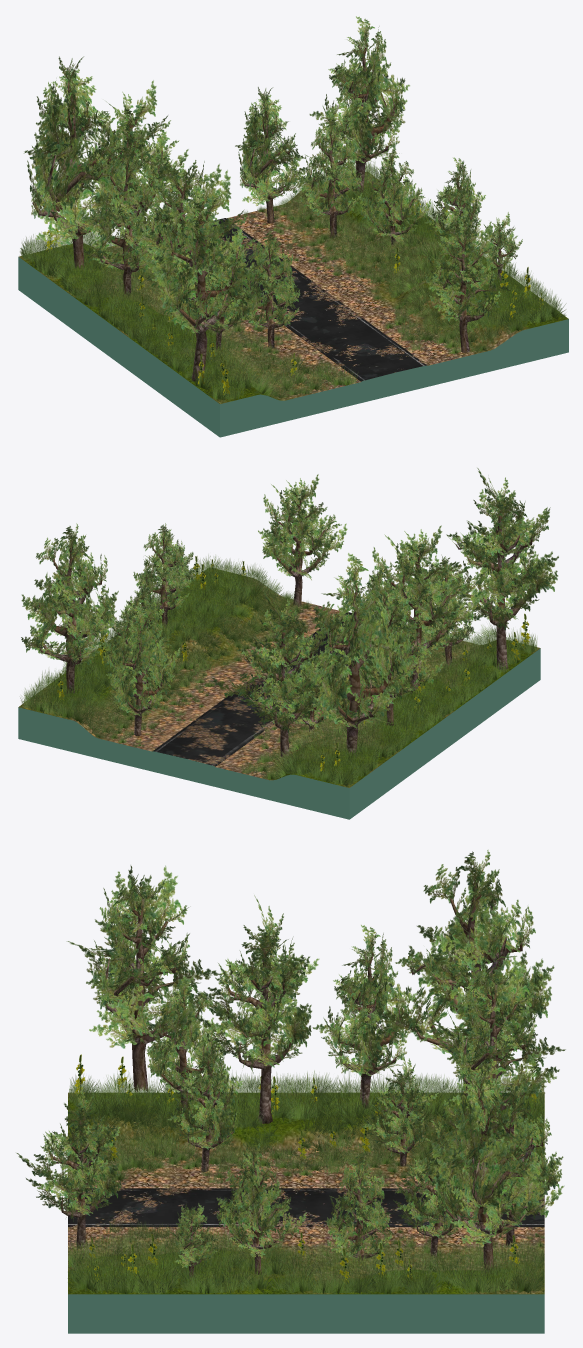
3 renders of one model, top to bottom at view 1: azimuth 30°, elevation 25°; view 2: azimuth 150°, elevation 25°; view 3: azimuth 270°, elevation 25°, orthographic. The views are drawn at different scales.
Parts seen in each view (by area): view 1: Trees_Nature_0, Ground_Ground_0, BgCutOut_BackGround_0, Road_Road_0; view 2: Trees_Nature_0, Ground_Ground_0, BgCutOut_BackGround_0, Road_Road_0; view 3: Trees_Nature_0, Ground_Ground_0, BgCutOut_BackGround_0, Road_Road_0.
Part boxes in pixels (x1,y1,x2,y2): Trees_Nature_0: [20, 16, 566, 401]; Ground_Ground_0: [19, 172, 568, 403]; BgCutOut_BackGround_0: [18, 219, 568, 437]; Road_Road_0: [192, 218, 426, 381]; Trees_Nature_0: [20, 468, 558, 786]; Ground_Ground_0: [18, 567, 540, 787]; BgCutOut_BackGround_0: [18, 648, 540, 819]; Road_Road_0: [153, 612, 373, 766]; Trees_Nature_0: [16, 849, 565, 1293]; Ground_Ground_0: [68, 1092, 544, 1294]; BgCutOut_BackGround_0: [68, 1294, 544, 1333]; Road_Road_0: [68, 1188, 544, 1226].
Size of the model in its own units: 4.73 by 2.75 by 4.66.
Materials: 4 (3 with a texture image).
